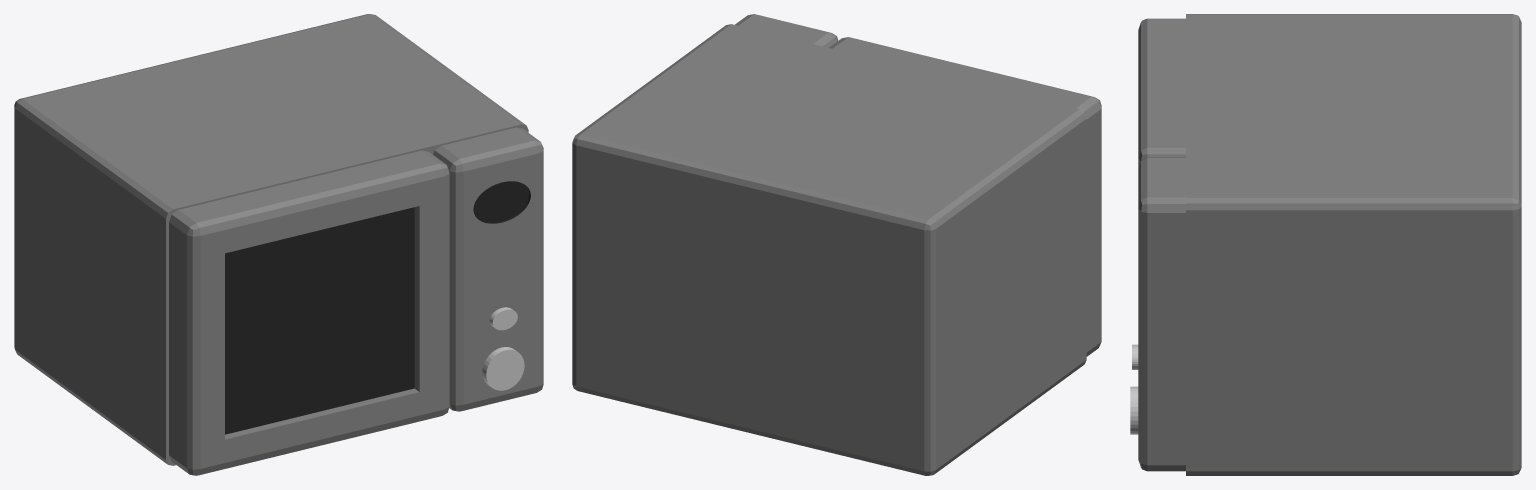
Rendered from Microwave.fbx.
3 views of the same model, side by side, from view 1: azimuth 30°, elevation 25°; view 2: azimuth 150°, elevation 25°; view 3: azimuth 270°, elevation 25° (orthographic). The views are drawn at different scales.
Parts seen in each view (by area): view 1: Microwave; view 2: Microwave; view 3: Microwave.
Boxes of the visible parts, left/top/right/bottom form: Microwave: left=14, top=14, right=543, bottom=475; Microwave: left=572, top=14, right=1101, bottom=475; Microwave: left=1130, top=14, right=1521, bottom=475.
Size of the model in its own units: 119 by 80.41 by 103.
